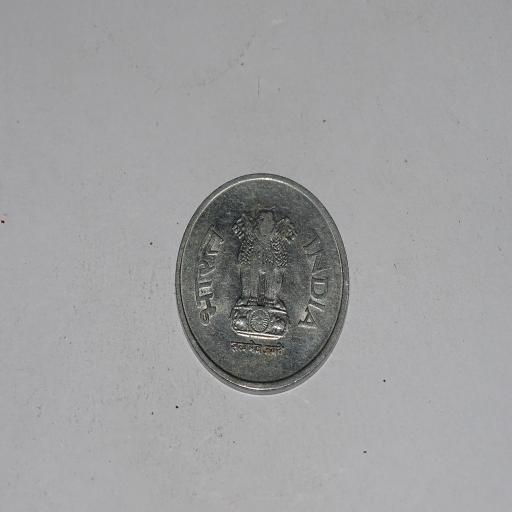rupee1: (174, 174, 348, 391)
